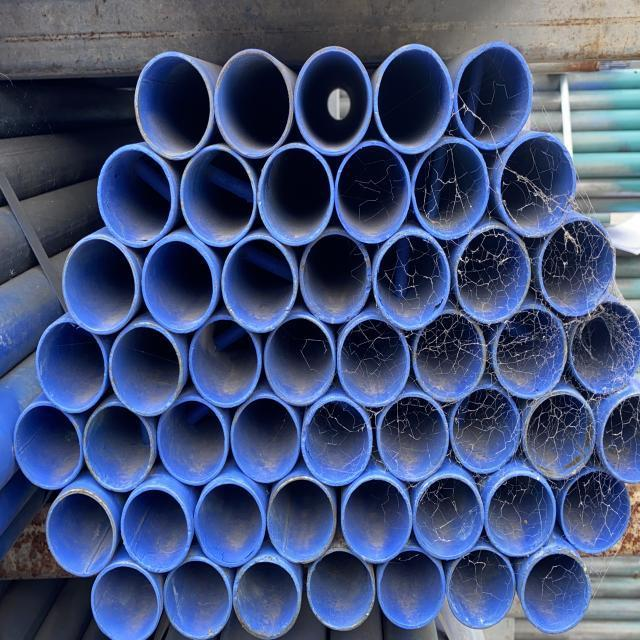pipe: (294, 44, 373, 158), (375, 42, 453, 156), (134, 50, 212, 161), (456, 41, 534, 152), (177, 143, 258, 249), (499, 131, 578, 238), (216, 48, 292, 158), (333, 142, 413, 246), (60, 232, 140, 336), (98, 143, 176, 249), (258, 142, 336, 248), (539, 214, 617, 320), (413, 138, 491, 242), (139, 232, 218, 334), (375, 228, 451, 334), (108, 318, 186, 420), (221, 233, 298, 334), (456, 224, 532, 324), (34, 316, 109, 416), (260, 312, 338, 408), (412, 306, 488, 404), (187, 313, 263, 410), (337, 311, 410, 411), (492, 304, 568, 399), (567, 298, 640, 395), (300, 392, 373, 488), (302, 228, 372, 326), (524, 388, 596, 482), (12, 400, 85, 492), (84, 400, 156, 493), (378, 391, 450, 484), (192, 480, 266, 570), (228, 392, 300, 484), (484, 471, 558, 560), (341, 474, 413, 565), (266, 476, 338, 566), (451, 384, 522, 475), (519, 548, 592, 636), (45, 488, 116, 578), (412, 472, 483, 562), (560, 468, 632, 556), (120, 488, 192, 574), (158, 399, 228, 487), (306, 548, 376, 634), (447, 546, 517, 632), (232, 555, 302, 640), (377, 546, 446, 630), (88, 561, 160, 640), (164, 560, 232, 640), (602, 392, 640, 486)
